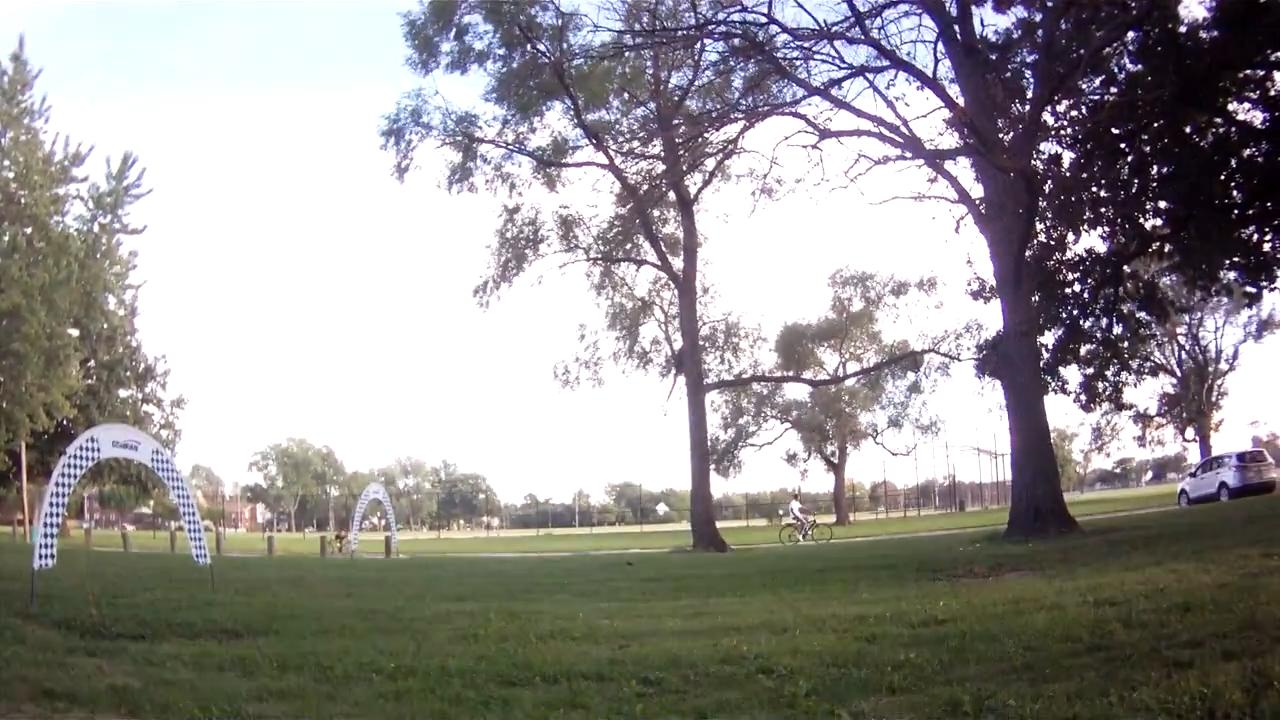gate: (32, 417, 214, 571)
